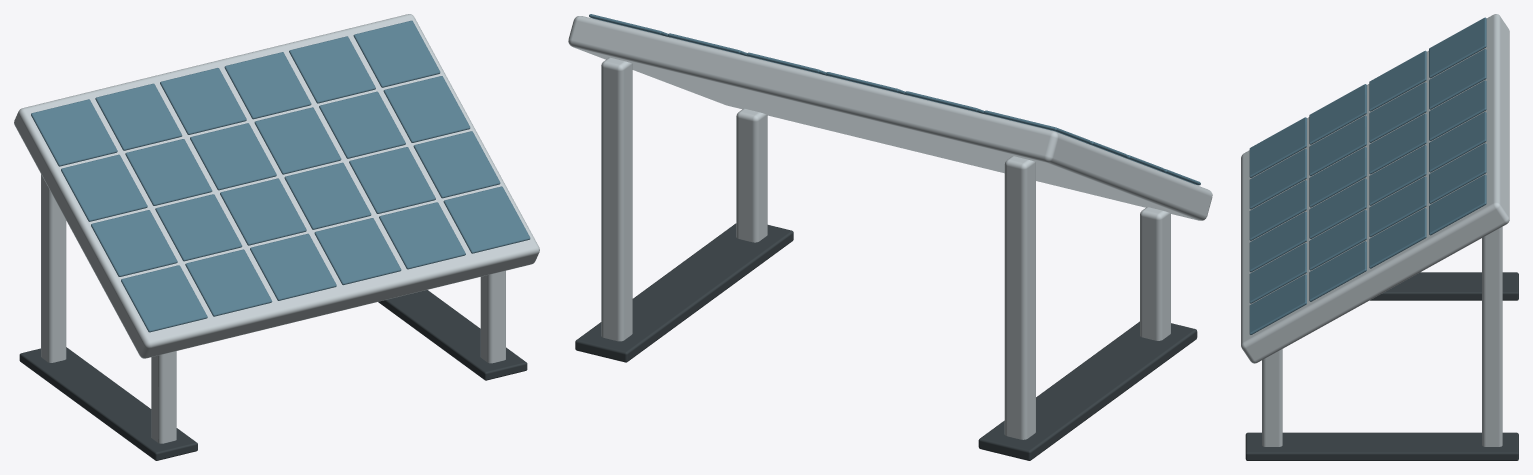
The model's file is abandoned-weather-station-and-storm-shelter-solar-powe-32093fba__31030.glb.
The picture shows the model from 3 angles, left to right: view 1: azimuth 30°, elevation 25°; view 2: azimuth 150°, elevation 25°; view 3: azimuth 270°, elevation 25°; orthographic projection. The views are drawn at different scales.
Visible parts, largest first — view 1: solar-power-panel; view 2: solar-power-panel; view 3: solar-power-panel.
Boxes of the visible parts, box(x1,y1,x2,y2) form: solar-power-panel: box(14, 14, 539, 460); solar-power-panel: box(568, 14, 1212, 460); solar-power-panel: box(1241, 14, 1518, 460).
Size of the model in its own units: 1.2 by 0.7634 by 0.7323.
